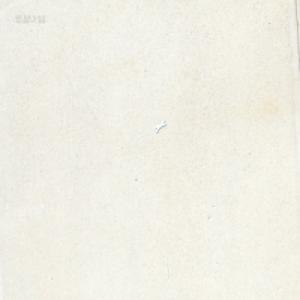Wrench: (154, 120, 166, 133)
